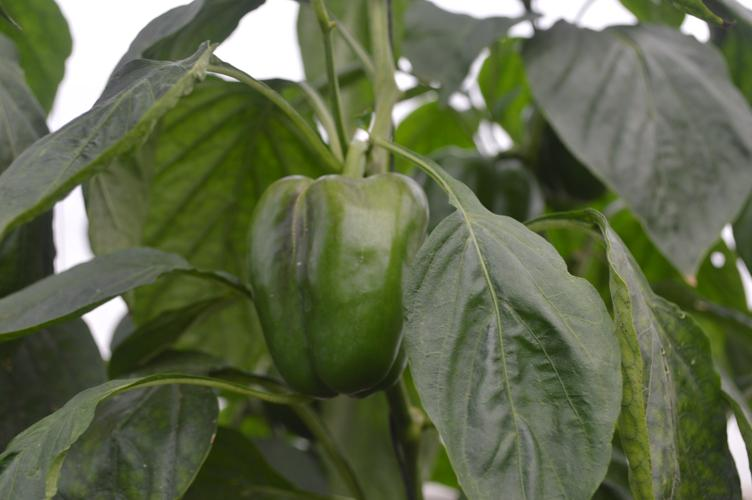BellPepper: (251, 175, 429, 400)
